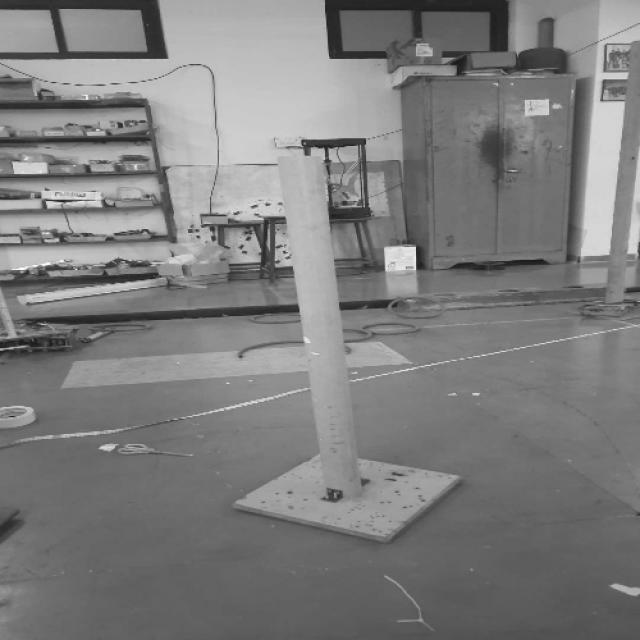poles: (213, 140, 472, 554)
